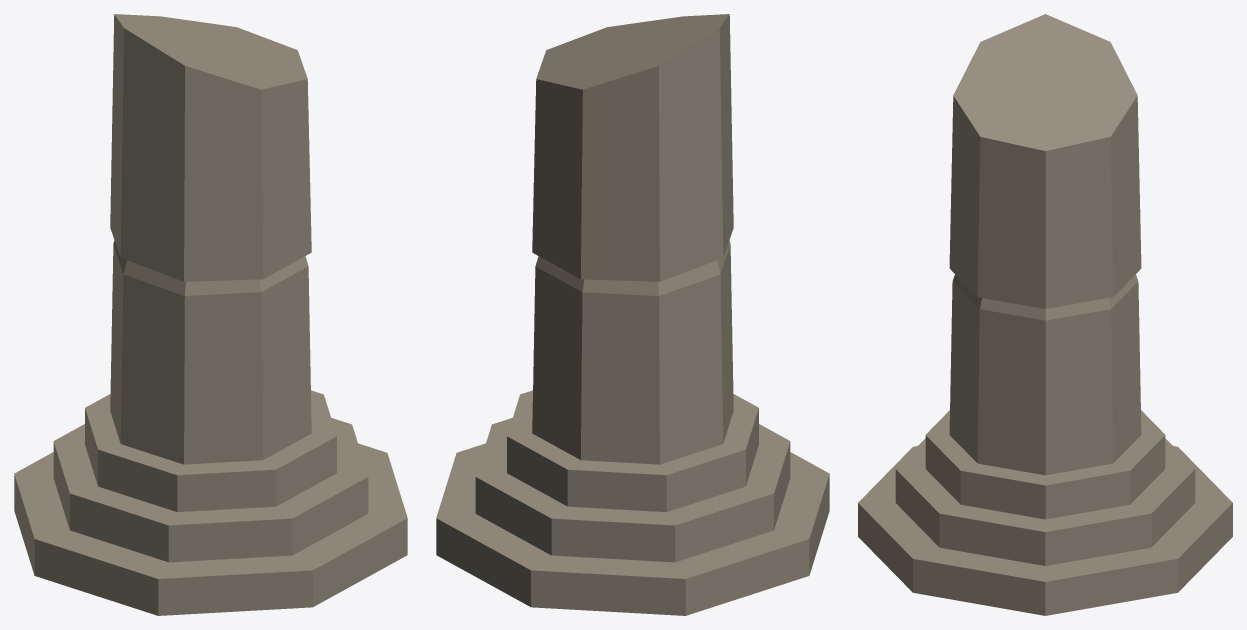
File: Column_Broken2.glb
3 renders of one model, left to right at view 1: azimuth 30°, elevation 25°; view 2: azimuth 150°, elevation 25°; view 3: azimuth 270°, elevation 25°, orthographic. The views are drawn at different scales.
Parts seen in each view (by area): view 1: ColumnBroken2; view 2: ColumnBroken2; view 3: ColumnBroken2.
Part boxes in pixels (box(x1,y1,x2,y2)): ColumnBroken2: box(14, 14, 407, 615); ColumnBroken2: box(436, 14, 829, 615); ColumnBroken2: box(858, 14, 1232, 615).
Size of the model in its own units: 0.7022 by 1 by 0.7022.
